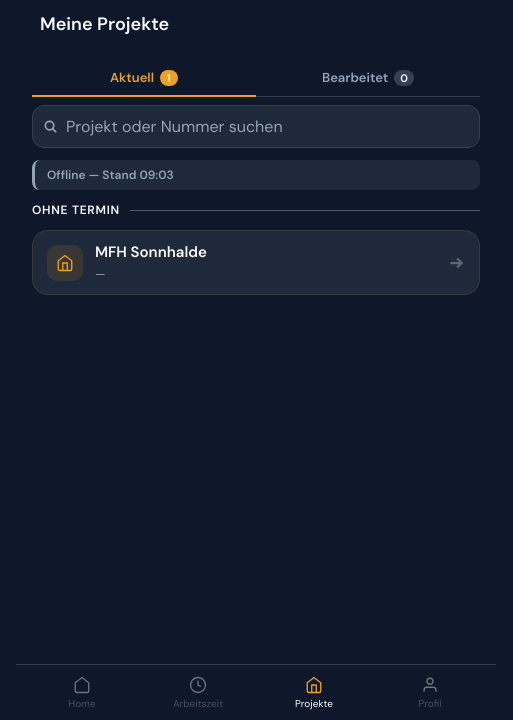
it: Karte der wartenden Rapporte › zeigt einen wartenden Rapport mit Erfassungszeit
Click the text "MFH Sonnhalde": click(151, 252) x1=95 y1=242 x2=207 y2=262
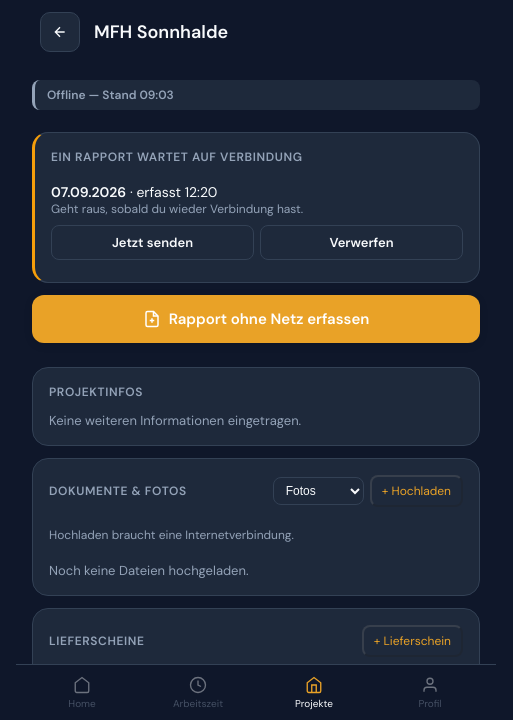
Now the text "Ein Rapport wartet auf Verbindung" is shown, box x1=51 y1=149 x2=302 y2=165
Now the text "Geht raus, sobald du wieder Verbindung hast." is shown, box x1=51 y1=201 x2=303 y2=217
